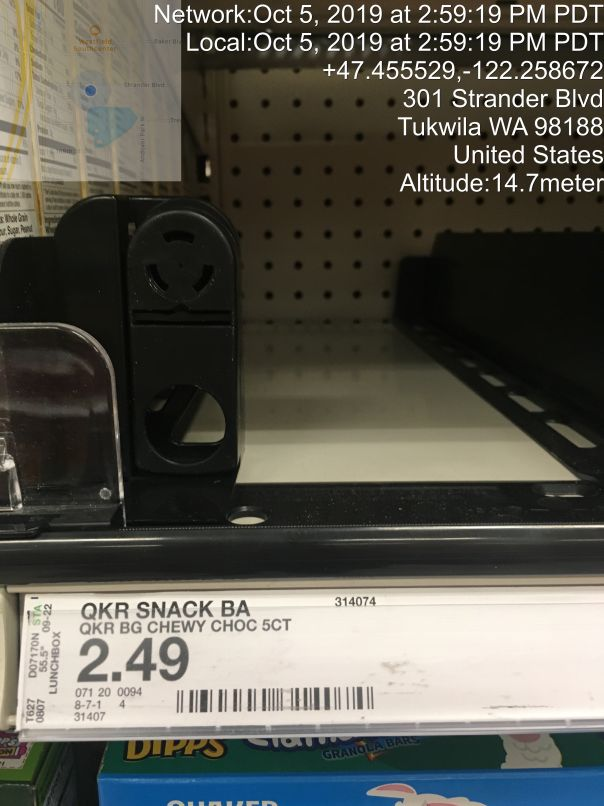Label: (31, 595, 396, 734)
Location: (386, 79, 604, 171)
Time: (146, 1, 604, 59)
Void: (192, 89, 501, 480)
